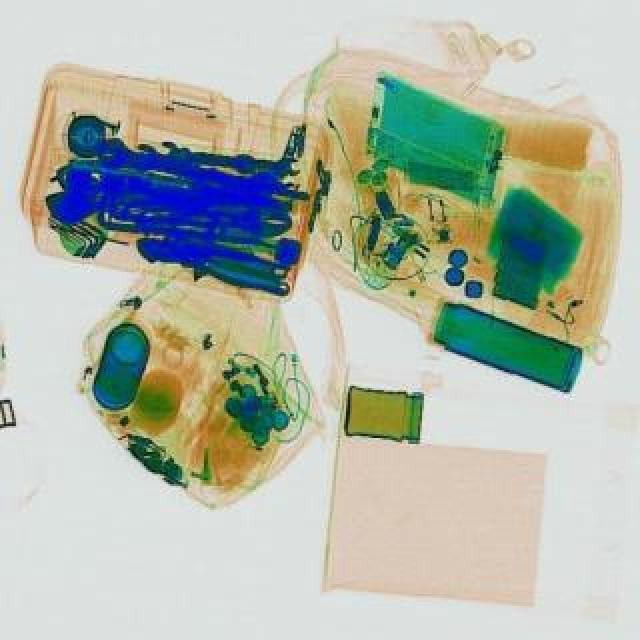scissors: (162, 138, 304, 178), (134, 140, 234, 192)
wrench: (134, 226, 298, 294)
